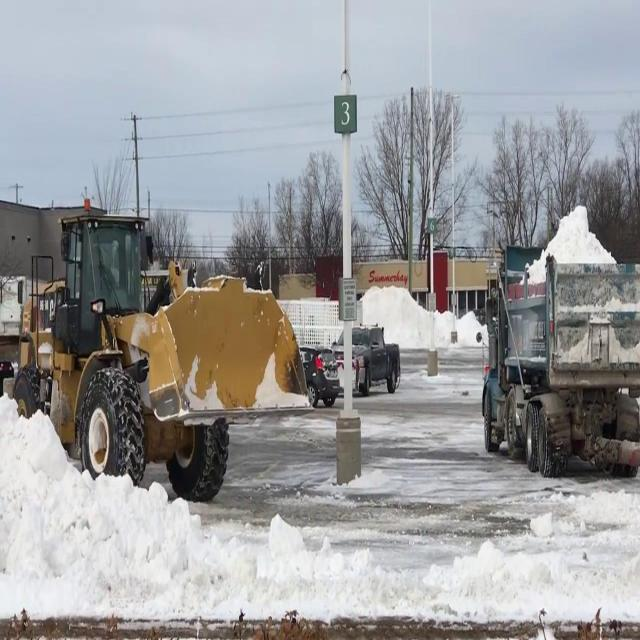Dump Truck: (480, 235, 640, 478)
Loader: (1, 188, 310, 505)
